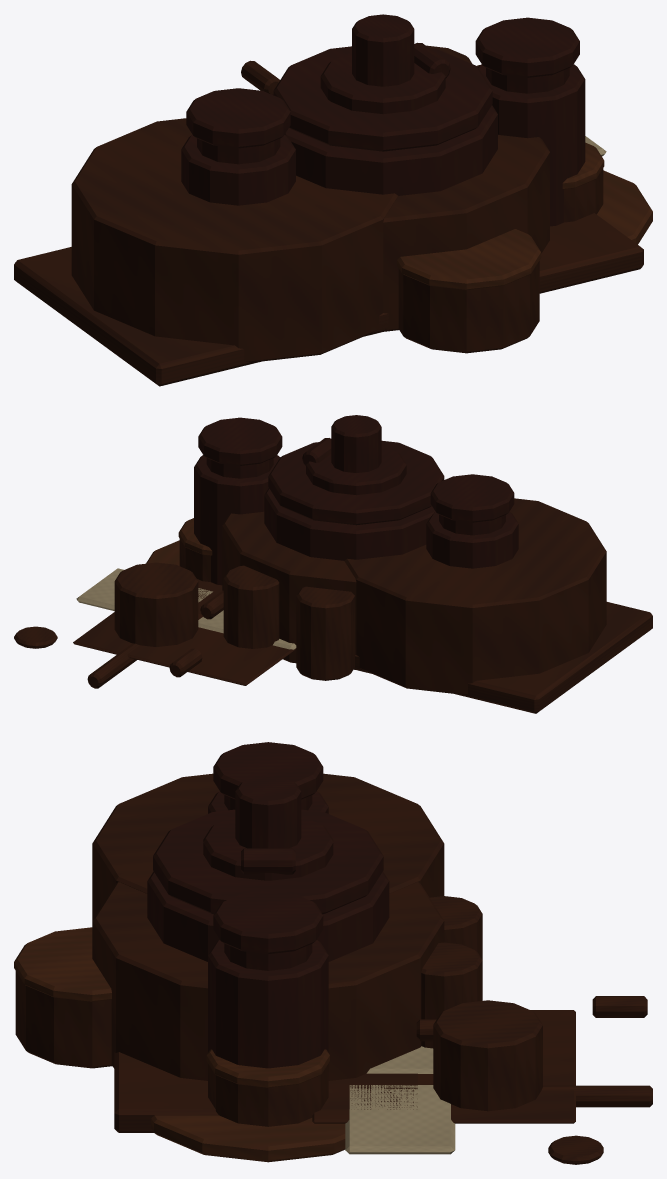
File: medieval_kitchenware_kit.glb
3 views of the same model, one above another, from view 1: azimuth 30°, elevation 25°; view 2: azimuth 150°, elevation 25°; view 3: azimuth 270°, elevation 25° (orthographic). The views are drawn at different scales.
Visible parts, largest first — view 1: BasinOuter.001, BasinOuter, PotLid, PotBody, BoardBody.001, EatingBowlOuter, JarBody.004, BoardBody, EatingBowlRim, JarBody.002, JarLid.002, JarLid.001 (+10 smaller); view 2: BasinOuter.001, PotLid, BasinOuter, StorageBowl, PotBody, BoardBody.001, TrencherRim.002, CupBody.001, JarBody.004, CupBody.002, JarBody.002, JarLid.001 (+15 smaller); view 3: BasinOuter, BasinOuter.001, JarBody.004, PotLid, StorageBowl, BoardBody, WipingCloth, PotBody, TrencherPlate.002, EatingBowlOuter, TrencherRim.002, JarLid.002 (+14 smaller).
Boxes of the visible parts, x1,y1,x2,y2 form: BasinOuter.001: (71, 118, 397, 362); BasinOuter: (383, 134, 549, 331); PotLid: (273, 46, 492, 151); PotBody: (284, 105, 497, 195); BoardBody.001: (14, 247, 388, 386); EatingBowlOuter: (398, 261, 539, 353); JarBody.004: (478, 64, 585, 226); BoardBody: (366, 213, 643, 335); EatingBowlRim: (397, 229, 541, 289); JarBody.002: (181, 135, 295, 205); JarLid.002: (475, 17, 579, 77); JarLid.001: (186, 88, 290, 148); BasinOuter.001: (344, 498, 606, 694); PotLid: (268, 440, 444, 525); BasinOuter: (222, 511, 356, 669); StorageBowl: (114, 562, 198, 646); PotBody: (264, 488, 435, 560); BoardBody.001: (354, 602, 652, 713); TrencherRim.002: (73, 612, 296, 685); CupBody.001: (296, 586, 354, 680); JarBody.004: (194, 455, 280, 585); CupBody.002: (223, 565, 279, 648); JarBody.002: (426, 512, 518, 568); JarLid.001: (430, 474, 514, 522); BasinOuter: (92, 882, 444, 1080); BasinOuter.001: (92, 773, 444, 920); JarBody.004: (208, 940, 328, 1068); PotLid: (153, 809, 383, 914); StorageBowl: (433, 1000, 542, 1111); BoardBody: (114, 1052, 417, 1132); WipingCloth: (345, 1085, 455, 1154); PotBody: (147, 871, 389, 961); TrencherPlate.002: (151, 1115, 345, 1162); EatingBowlOuter: (15, 971, 112, 1068); TrencherRim.002: (312, 1010, 575, 1123); JarLid.002: (213, 890, 323, 954).
Size of the model in its own units: 0.6352 by 0.25 by 0.5814.
Materials: 5 (5 with a texture image).
